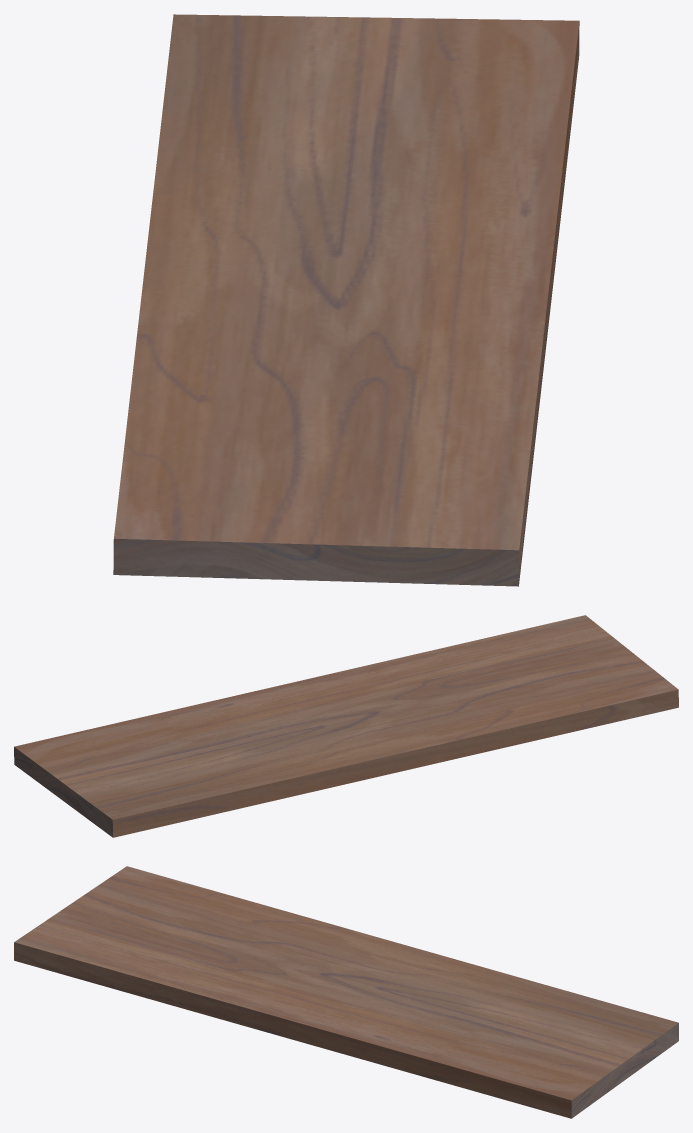
The model's file is plank_045.fbx.
3 views of the same model, one above another, from view 1: azimuth 30°, elevation 25°; view 2: azimuth 150°, elevation 25°; view 3: azimuth 270°, elevation 25° (orthographic). The views are drawn at different scales.
Visible parts, largest first — view 1: plank.045; view 2: plank.045; view 3: plank.045.
Part boxes in pixels (<box>): plank.045: <box>113,14,579,586</box>; plank.045: <box>14,615,678,837</box>; plank.045: <box>14,866,678,1118</box>.
Bounding box in the file's own units: 25.96 × 1.47 × 32.33.
